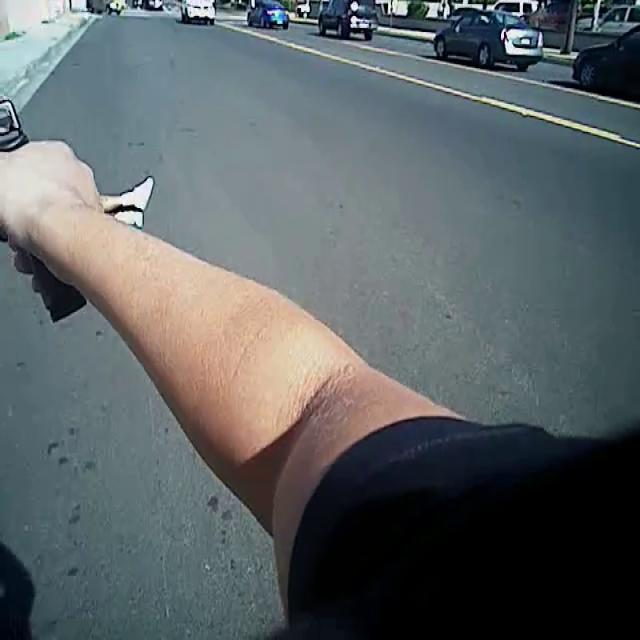gun: (0, 89, 108, 365)
